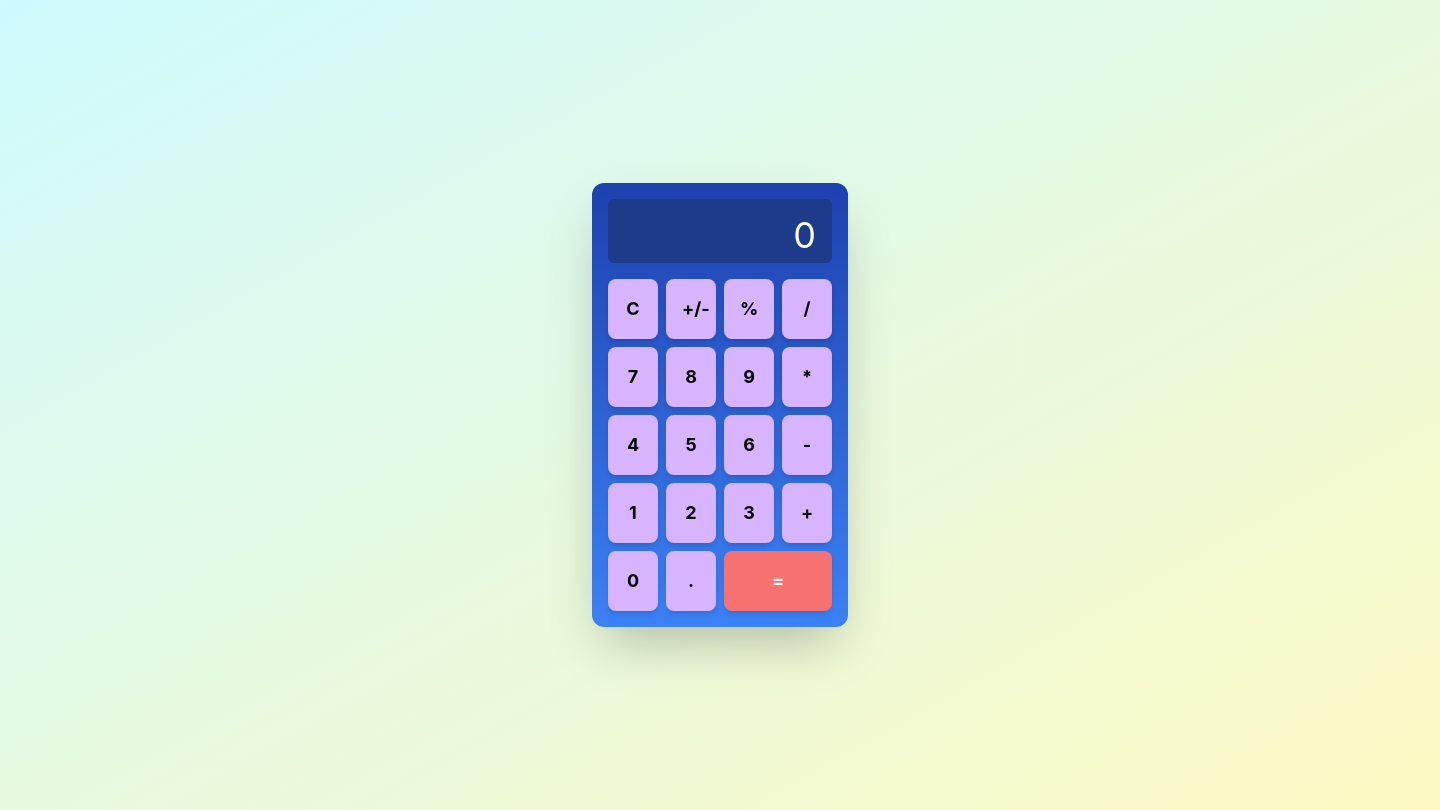
Test: multiplies two numbers correctly
Step 1. Click the button "6" → (749, 445), box [724, 415, 774, 475]
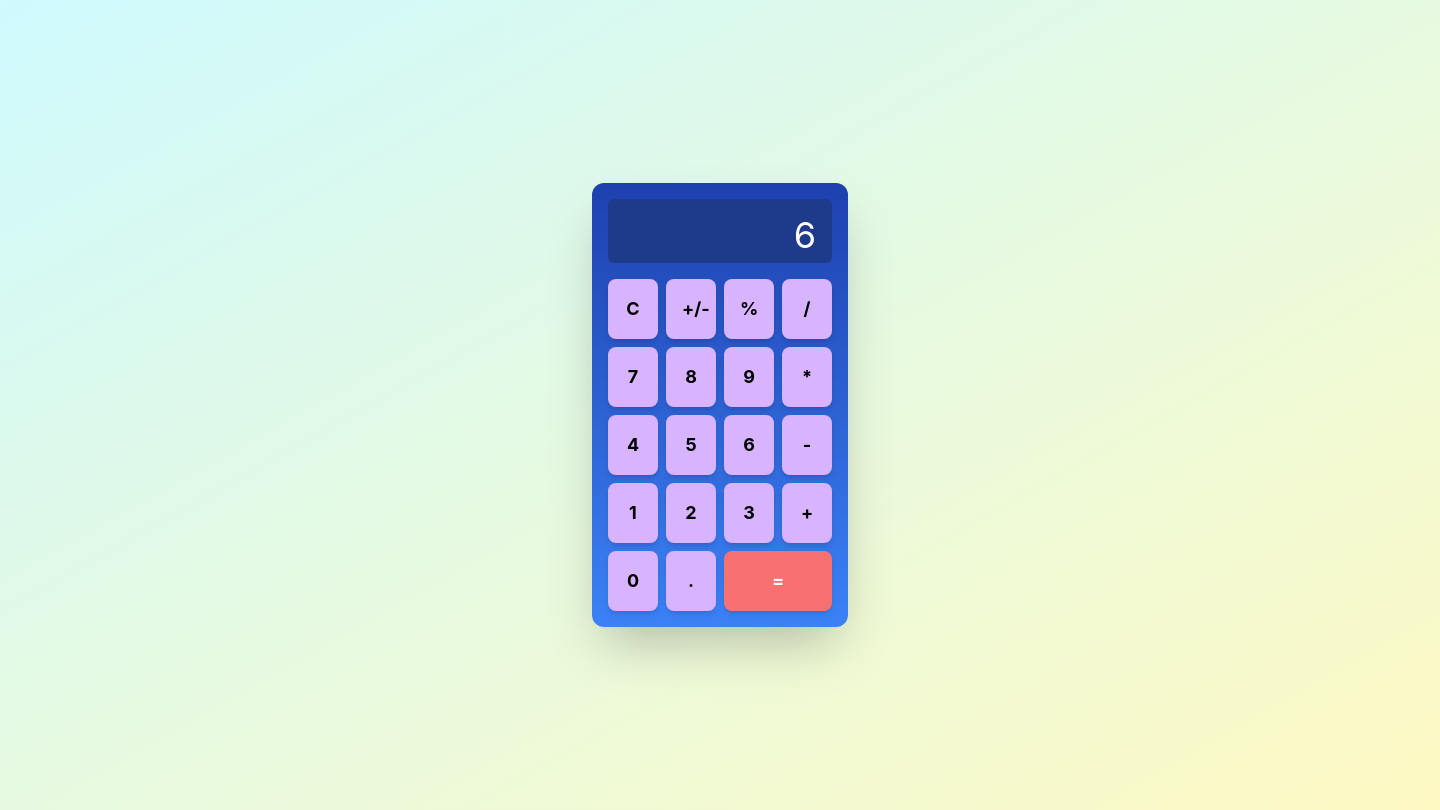
Step 2. Click the button "*" → (807, 377), box [782, 347, 832, 407]
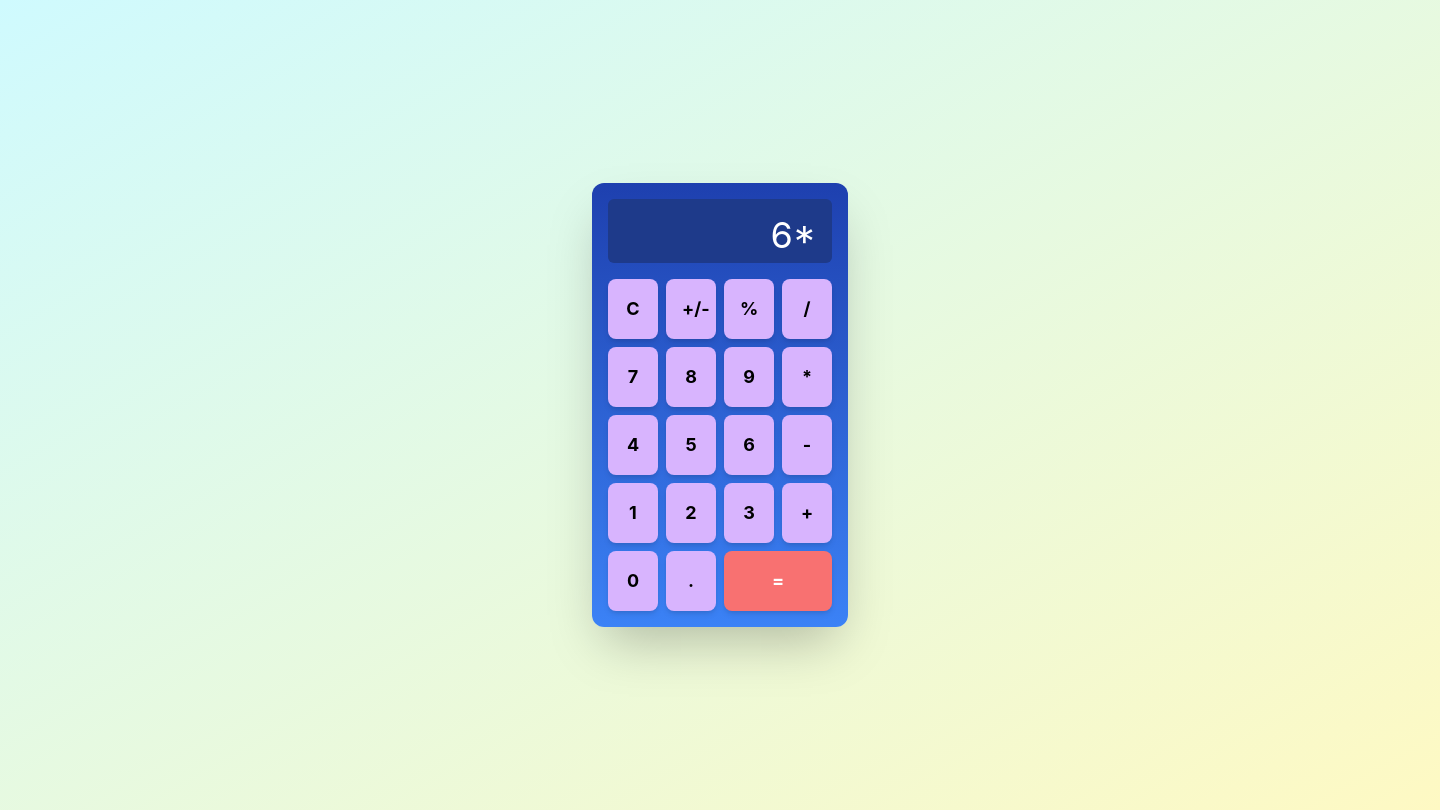
Step 3. Click the button "3" → (749, 513), box [724, 483, 774, 543]
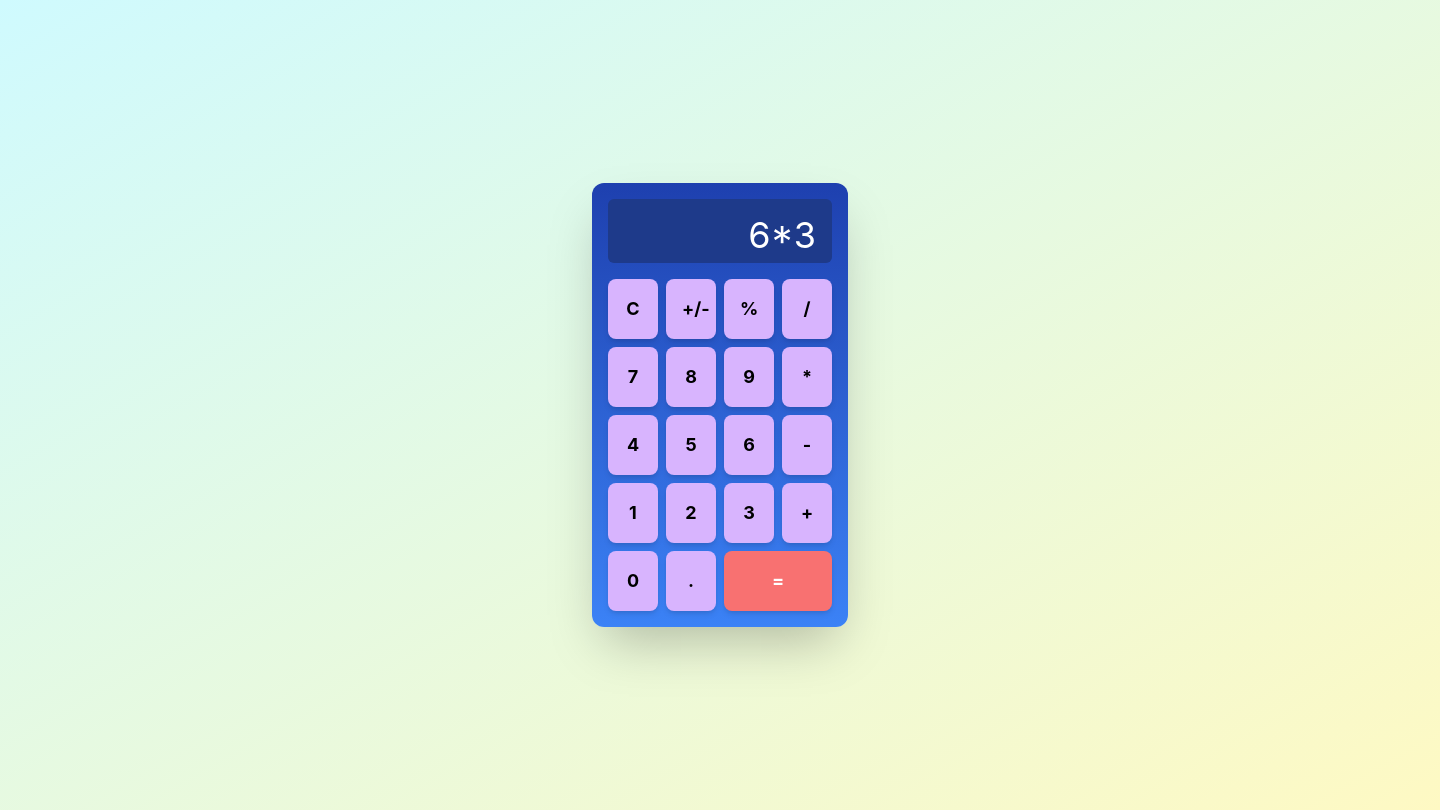
Step 4. Click the button "=" → (778, 581), box [724, 551, 832, 611]
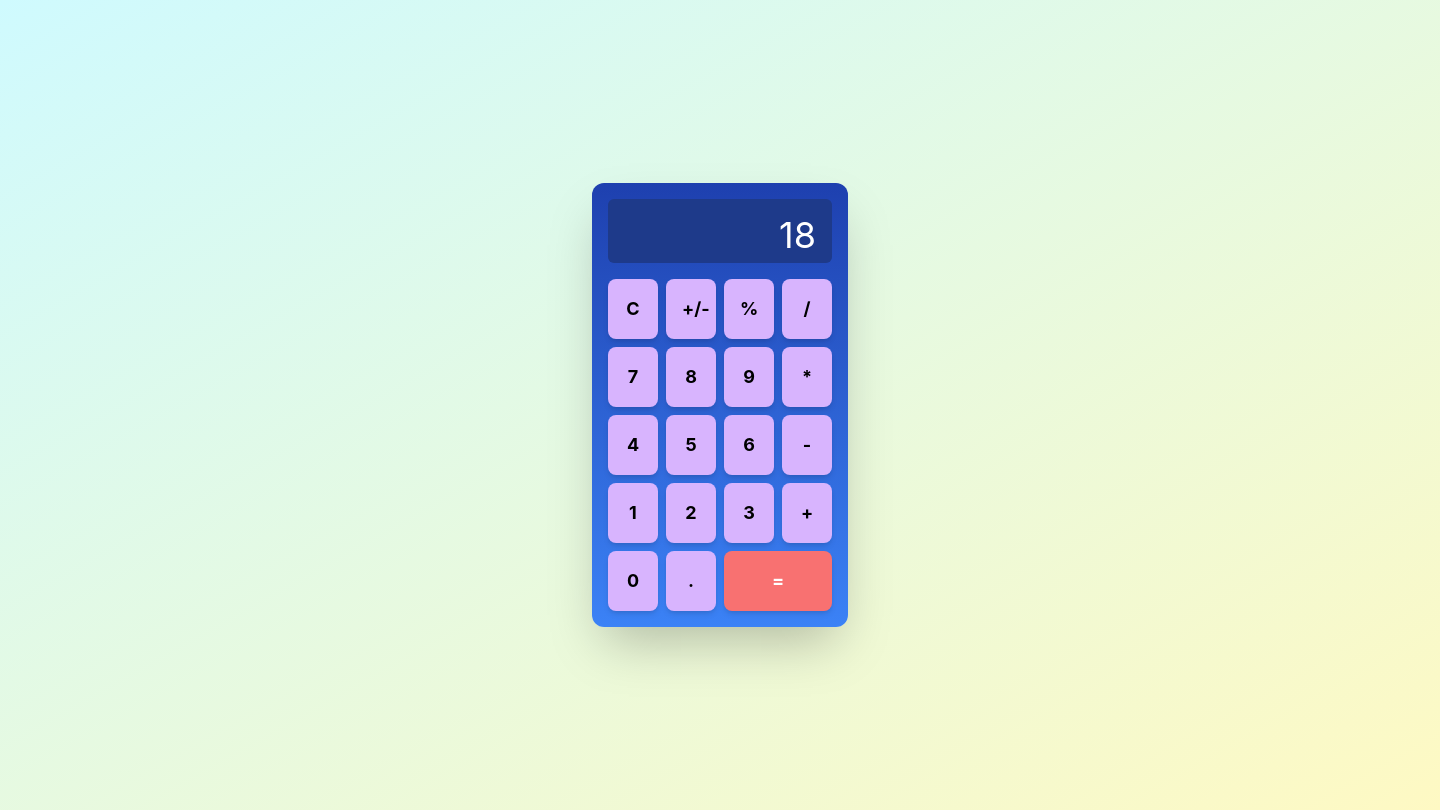
Expected: the text with test id "display" reads "18", [779, 213, 816, 257]
